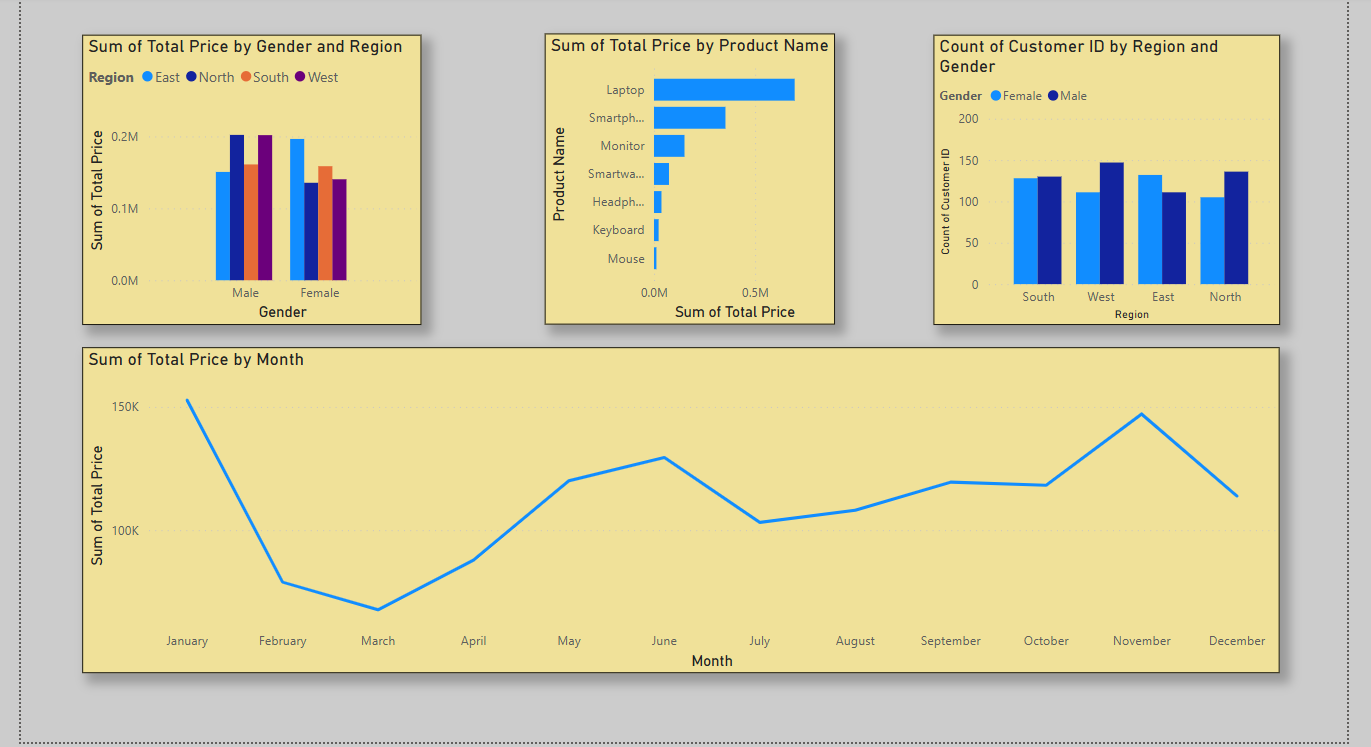

This screenshot's page, from the dashboard's own definition file:
{"tool":"powerbi","page":{"name":"Page 2","canvas":[1280,720],"ordinal":1},"visuals":[{"type":"clusteredColumnChart","fields":{"Category":["realistic_e_commerce_sales_data.Gender"],"Series":["realistic_e_commerce_sales_data.Region"],"Y":["Sum(realistic_e_commerce_sales_data.Total Price)"]},"box":[59.1,37.4,326.8,279.8],"z":0},{"type":"barChart","fields":{"Category":["realistic_e_commerce_sales_data.Product Name"],"Y":["Sum(realistic_e_commerce_sales_data.Total Price)"]},"box":[505.3,36.2,279.8,281],"z":1},{"type":"clusteredColumnChart","fields":{"Category":["realistic_e_commerce_sales_data.Region"],"Series":["realistic_e_commerce_sales_data.Gender"],"Y":["CountNonNull(realistic_e_commerce_sales_data.Customer ID)"]},"box":[880.4,37.4,334.1,279.8],"z":2},{"type":"lineChart","fields":{"Category":["realistic_e_commerce_sales_data.Order Date.Variation.Date Hierarchy.Month"],"Y":["Sum(realistic_e_commerce_sales_data.Total Price)"]},"box":[59.1,338.9,1155.4,314.8],"z":3}]}

Visuals, with their boxes in screenshot pixels (x1, y1, x2, y2):
clusteredColumnChart - realistic_e_commerce_sales_data.Gender x realistic_e_commerce_sales_data.Region: bbox=(93, 38, 427, 324)
barChart - realistic_e_commerce_sales_data.Product Name x Sum(realistic_e_commerce_sales_data.Total Price): bbox=(549, 37, 835, 324)
clusteredColumnChart - realistic_e_commerce_sales_data.Region x realistic_e_commerce_sales_data.Gender: bbox=(932, 38, 1273, 324)
lineChart - realistic_e_commerce_sales_data.Order Date.Variation.Date Hierarchy.Month x Sum(realistic_e_commerce_sales_data.Total Price): bbox=(93, 346, 1273, 668)
